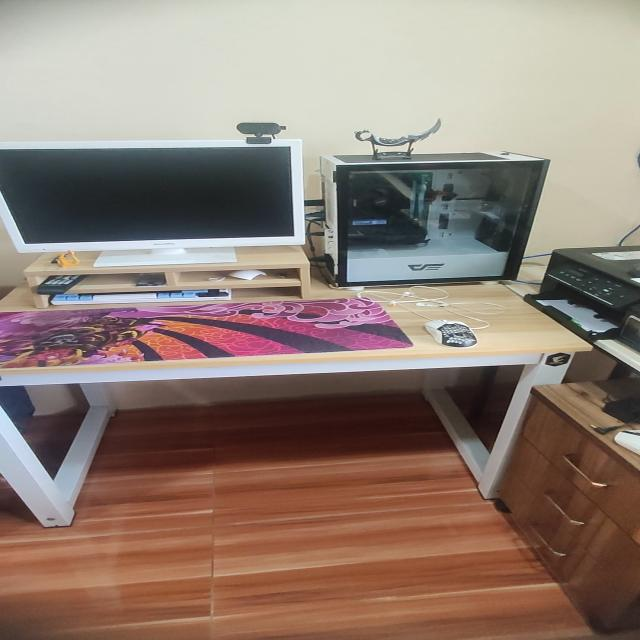table: (0, 274, 601, 527)
